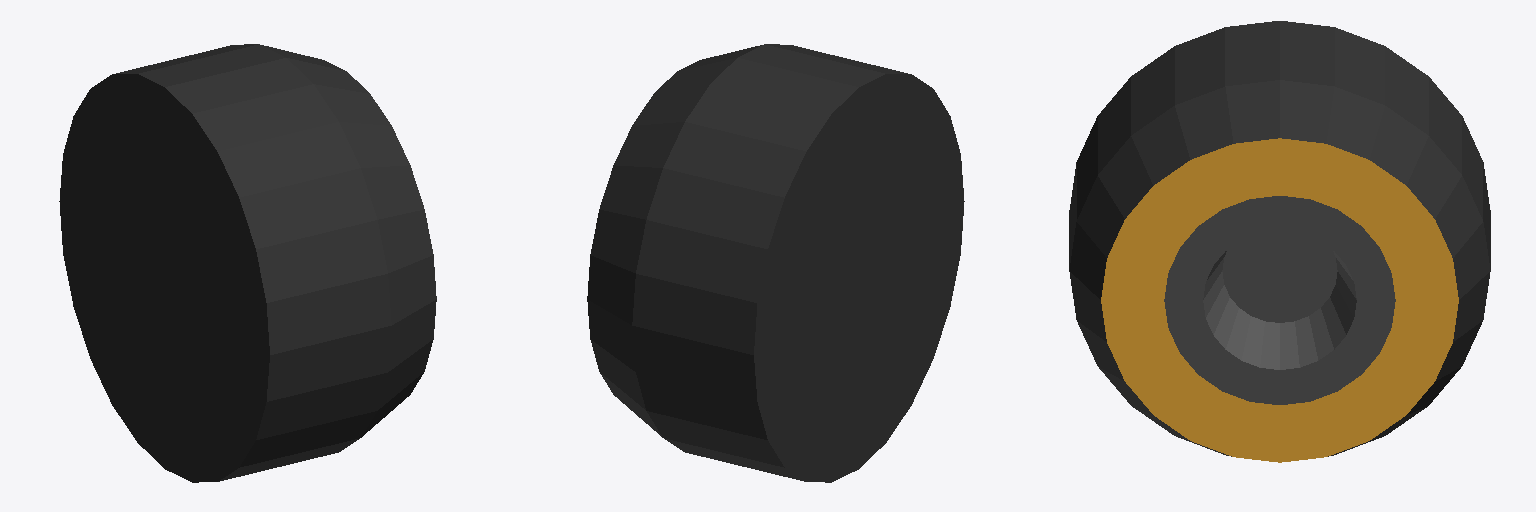
The model's file is wheelRacing.obj.
3 renders of one model, left to right at view 1: azimuth 30°, elevation 25°; view 2: azimuth 150°, elevation 25°; view 3: azimuth 270°, elevation 25°, orthographic.
Visible parts, largest first — view 1: wheelRacing; view 2: wheelRacing; view 3: wheelRacing.
Boxes of the visible parts, x1=… form: wheelRacing: x1=59, y1=44, x2=436, y2=482; wheelRacing: x1=587, y1=44, x2=964, y2=482; wheelRacing: x1=1069, y1=21, x2=1490, y2=462.
Size of the model in its own units: 0.3 by 0.6 by 0.6.